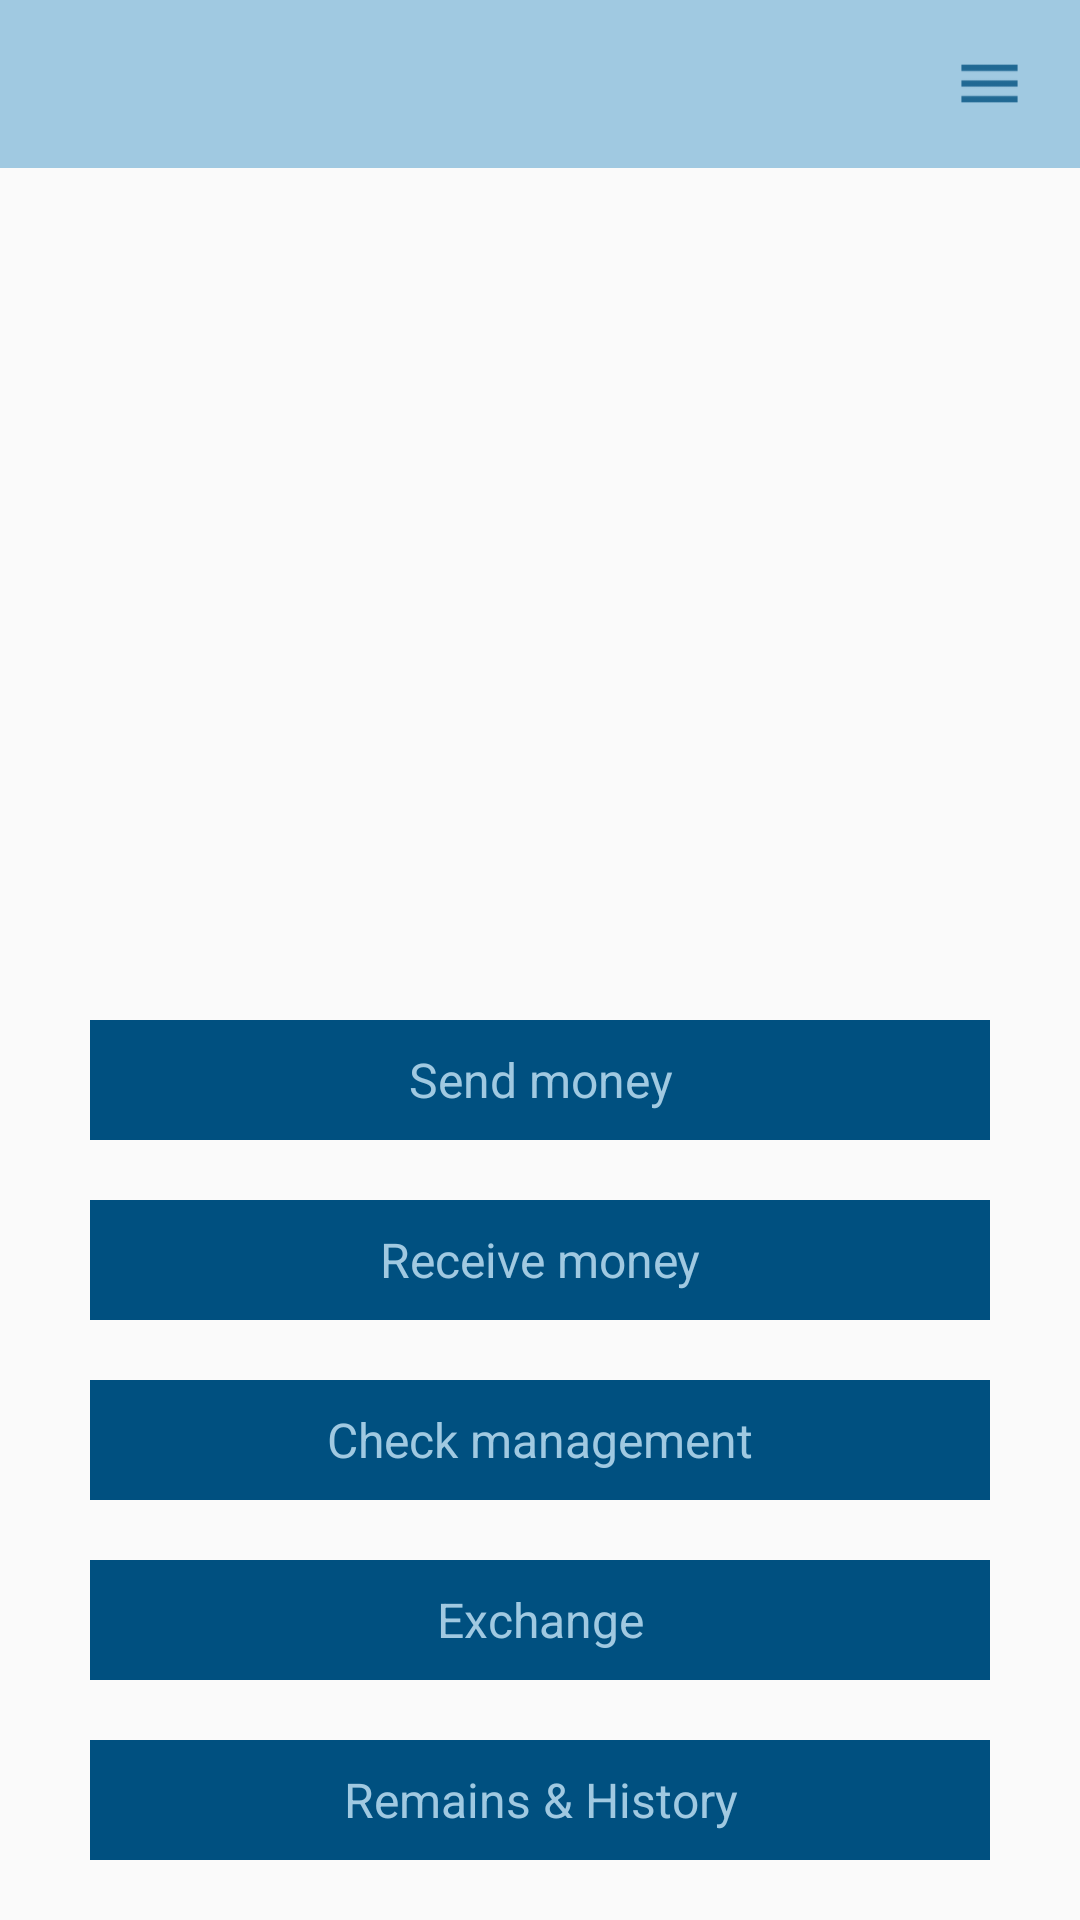

Where to tap for icons on this 1080x1920 app screen, as (x,y):
menu: (989,83)
